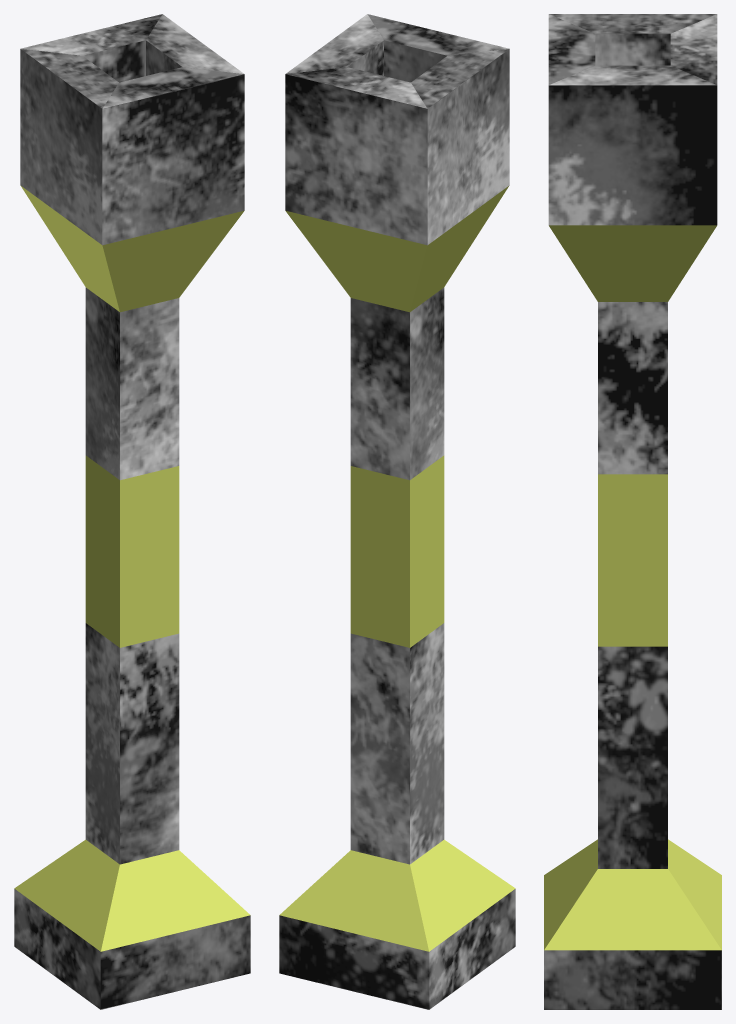
The model's file is FirePillar.glb.
3 renders of one model, left to right at view 1: azimuth 30°, elevation 25°; view 2: azimuth 150°, elevation 25°; view 3: azimuth 270°, elevation 25°, orthographic. The views are drawn at different scales.
Visible parts, largest first — view 1: Plane; view 2: Plane; view 3: Plane.
Boxes of the visible parts, x1,y1,x2,y2 form: Plane: [14, 14, 250, 1009]; Plane: [279, 14, 515, 1009]; Plane: [544, 14, 721, 1009].
Bounding box in the file's own units: 2 × 11.45 × 2.
2 materials, 1 textured.
